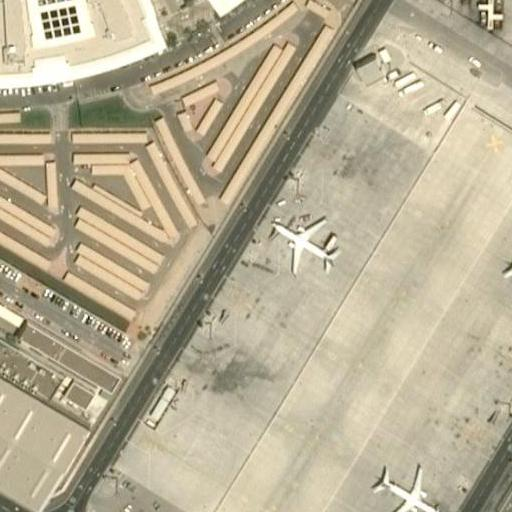Aircraft: (269, 210, 341, 273), (371, 463, 444, 512), (501, 249, 512, 310)
